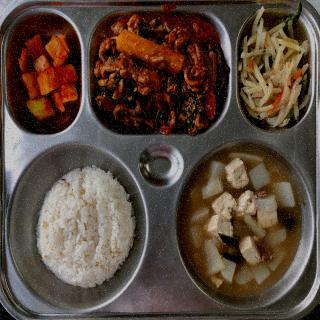Nasi: (37, 164, 143, 293)
